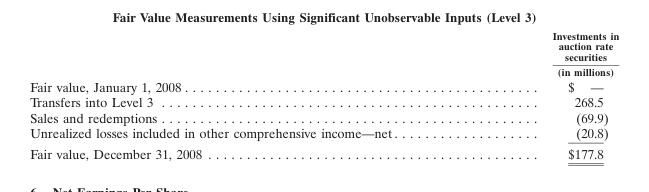table: (29, 29, 618, 161)
table column: (29, 29, 474, 161), (474, 29, 618, 161)
table column header: (29, 29, 618, 77)
table row: (29, 29, 618, 77), (29, 142, 618, 161), (29, 124, 618, 142), (29, 77, 618, 93), (29, 93, 618, 109), (29, 109, 618, 124)
